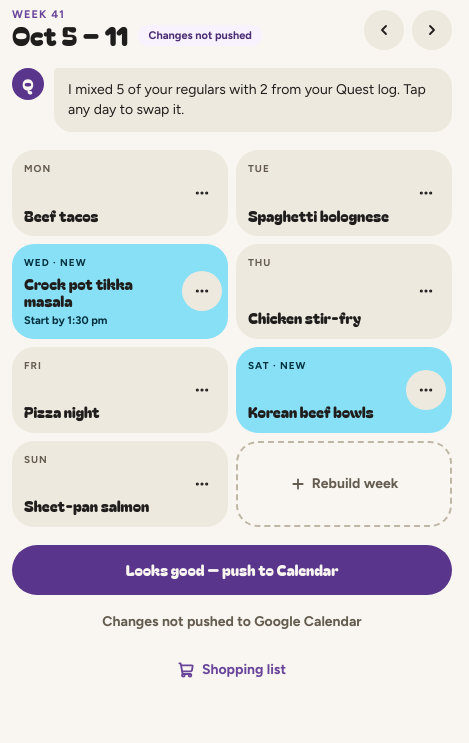
Test: PlanPage › says changes to a pushed plan are not pushed, and pushes them
Expected: the text "Changes not pushed" is shown, [138, 25, 262, 46]
Step 1. Click the button "Looks good — push to Calendar" → (232, 570), box [12, 545, 452, 595]
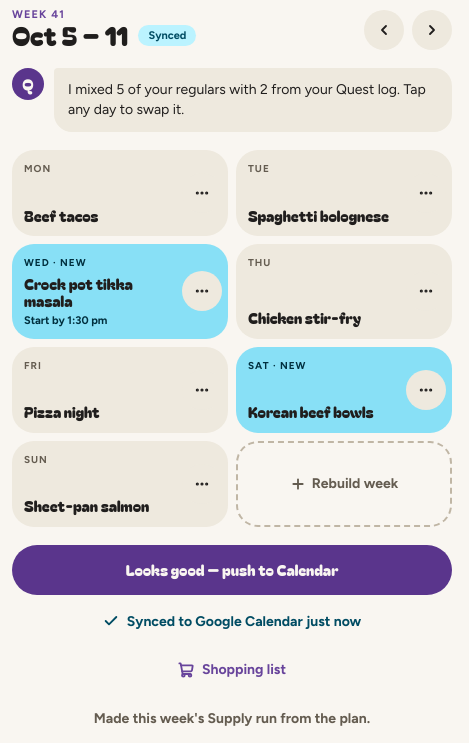
Now the text "Synced to Google Calendar just now" is shown, box [103, 613, 361, 630]
Now the text "Changes not pushed" is gone
